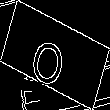O_N: (34, 24, 76, 86)
